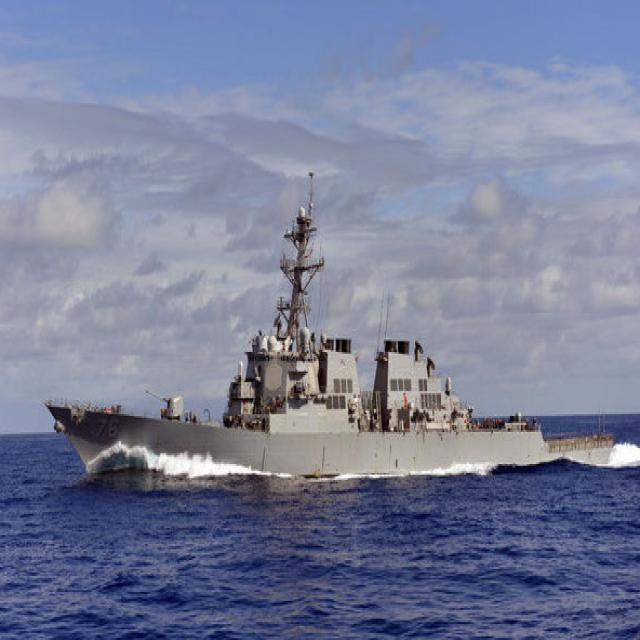navalvessels: (41, 198, 630, 481)
